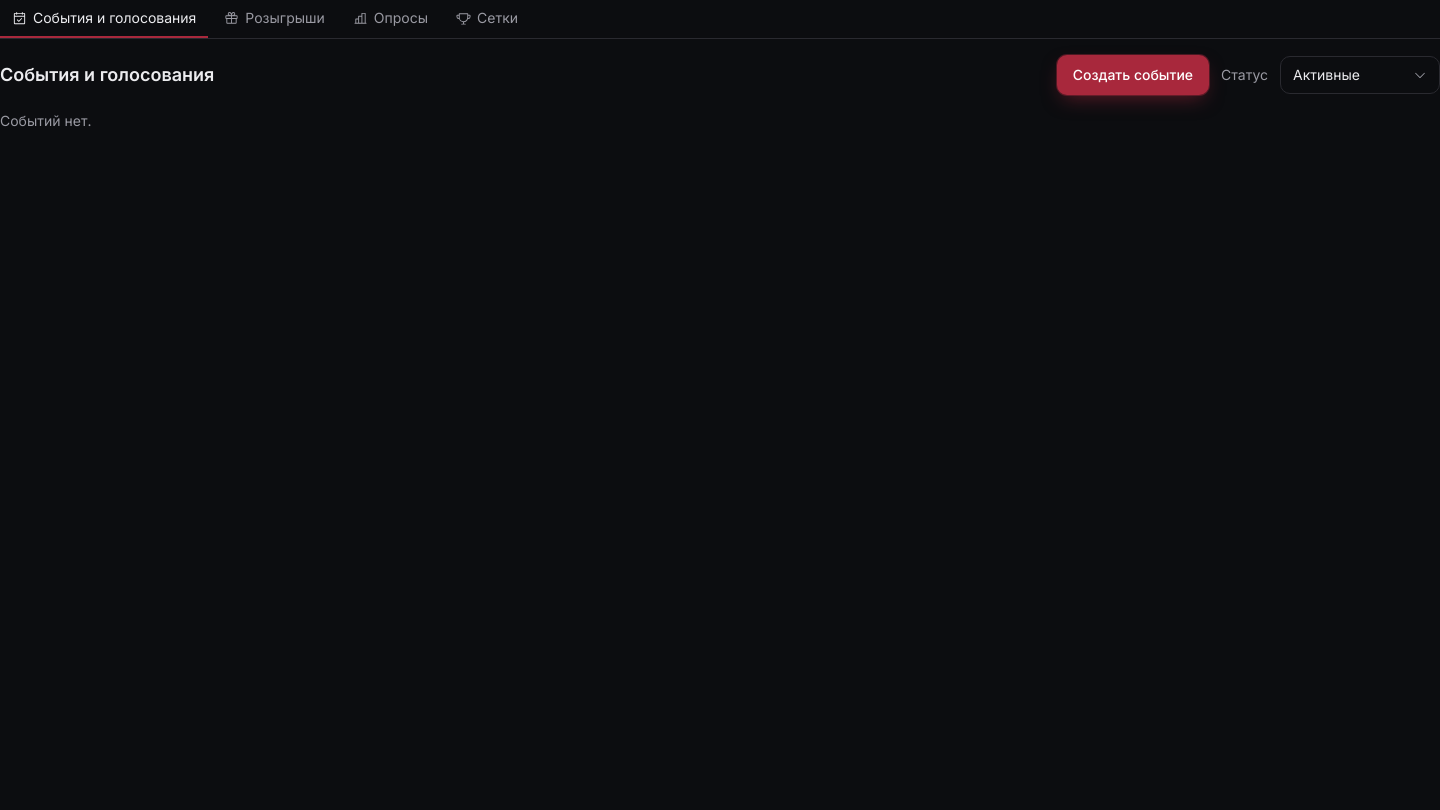
EventsPage create flow › toggles between tournament and poll sections
Step 1. Click the button "Создать событие" → (1133, 75), box left=1057, top=55, right=1209, bottom=95
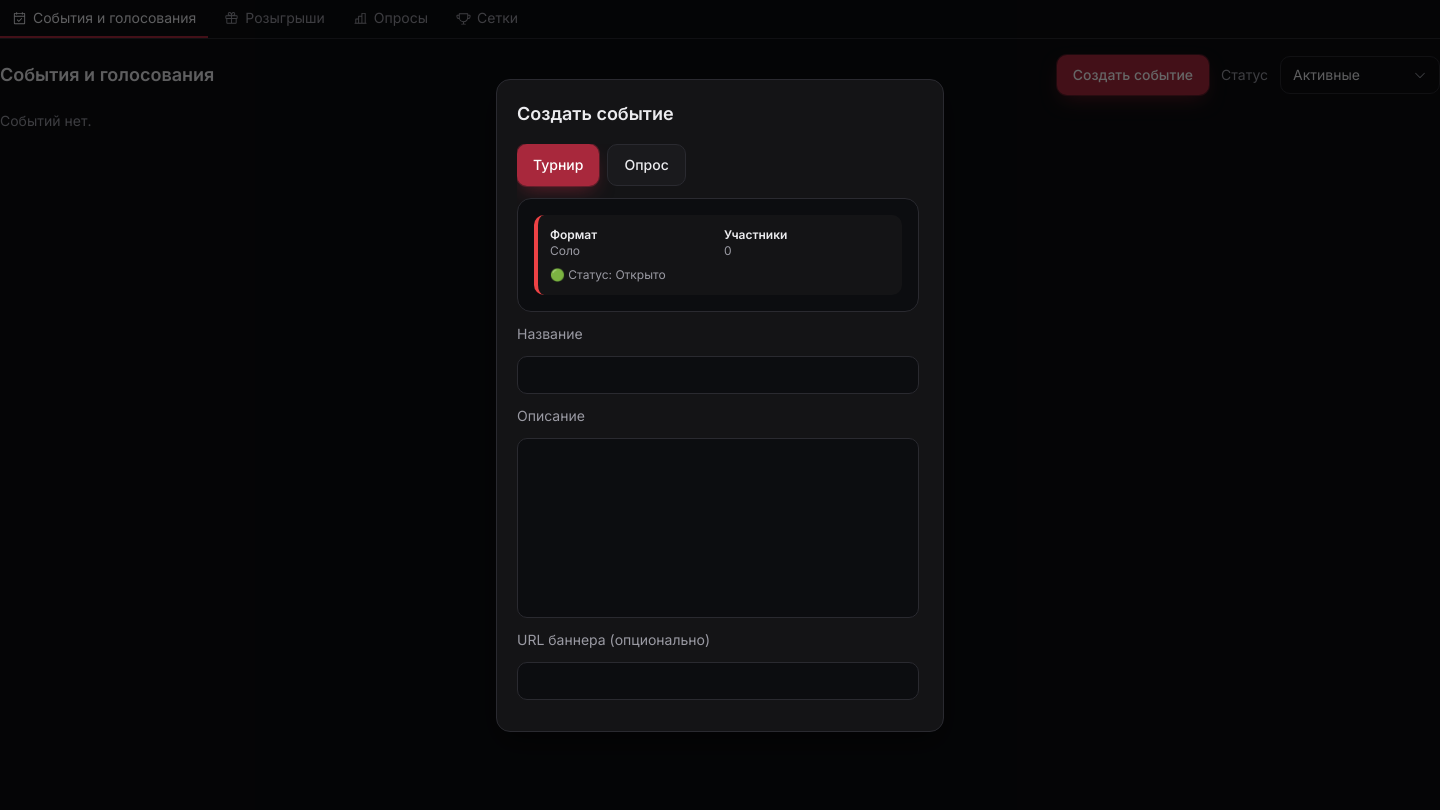
Expected: the field labelled "Варианты ответа (каждый с новой строки, 2–10)" is not shown
Step 2. Click the button "Опрос" → (647, 164), box left=607, top=144, right=686, bottom=186
(page scrolled)
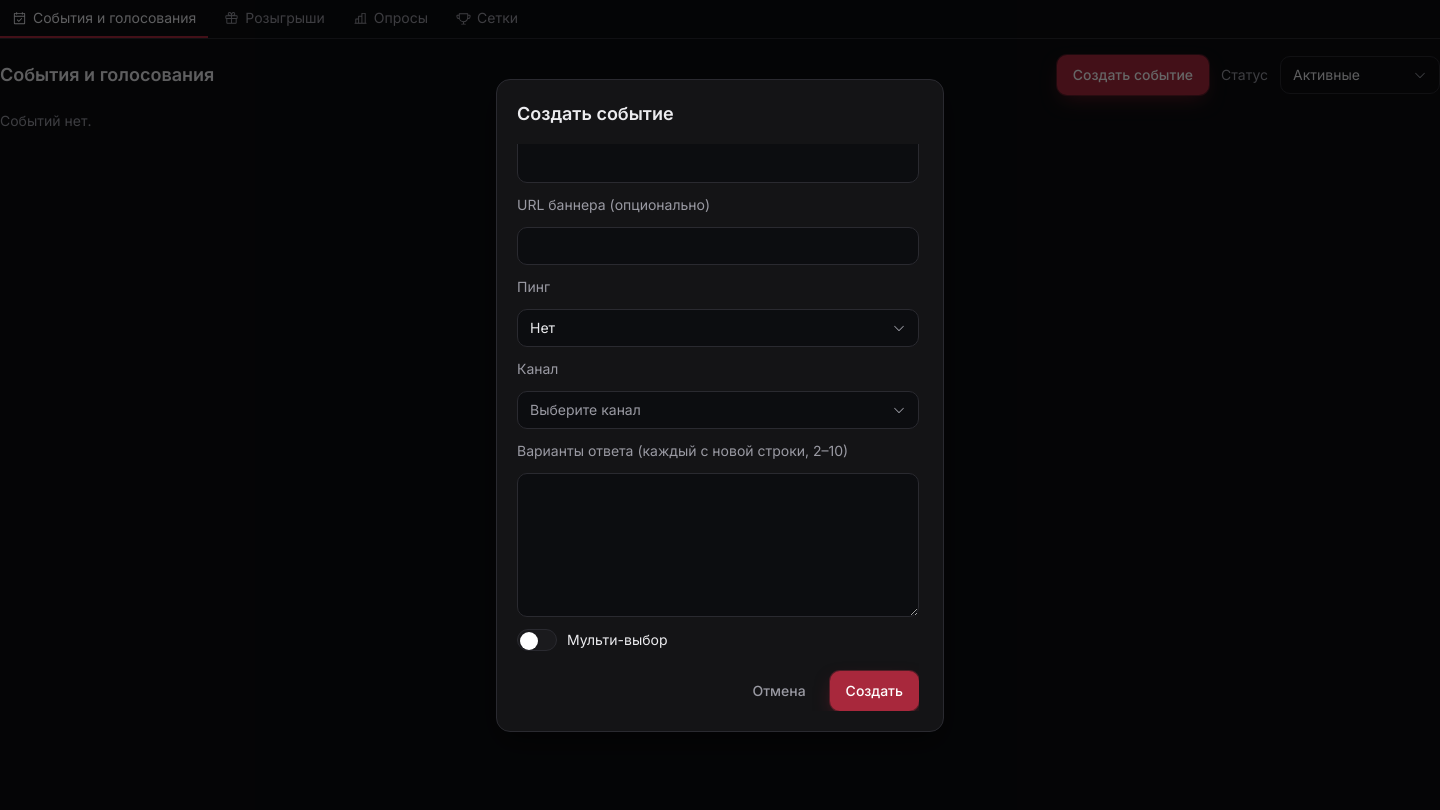
Expected: the text box labelled "Варианты ответа (каждый с новой строки, 2–10)" is shown, left=517, top=472, right=919, bottom=616
Expected: the text labelled "Формат" is gone
